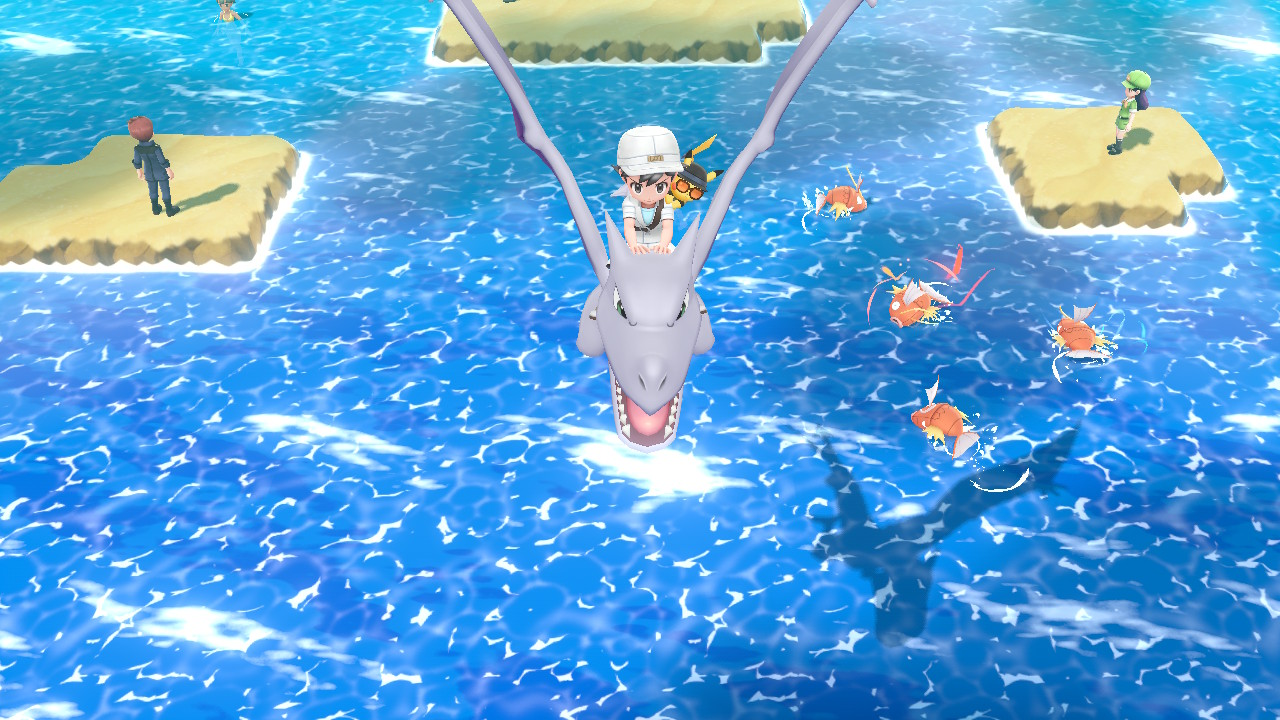Red: (870, 266, 953, 333), (903, 393, 981, 462), (1042, 307, 1115, 366), (805, 177, 879, 222)
